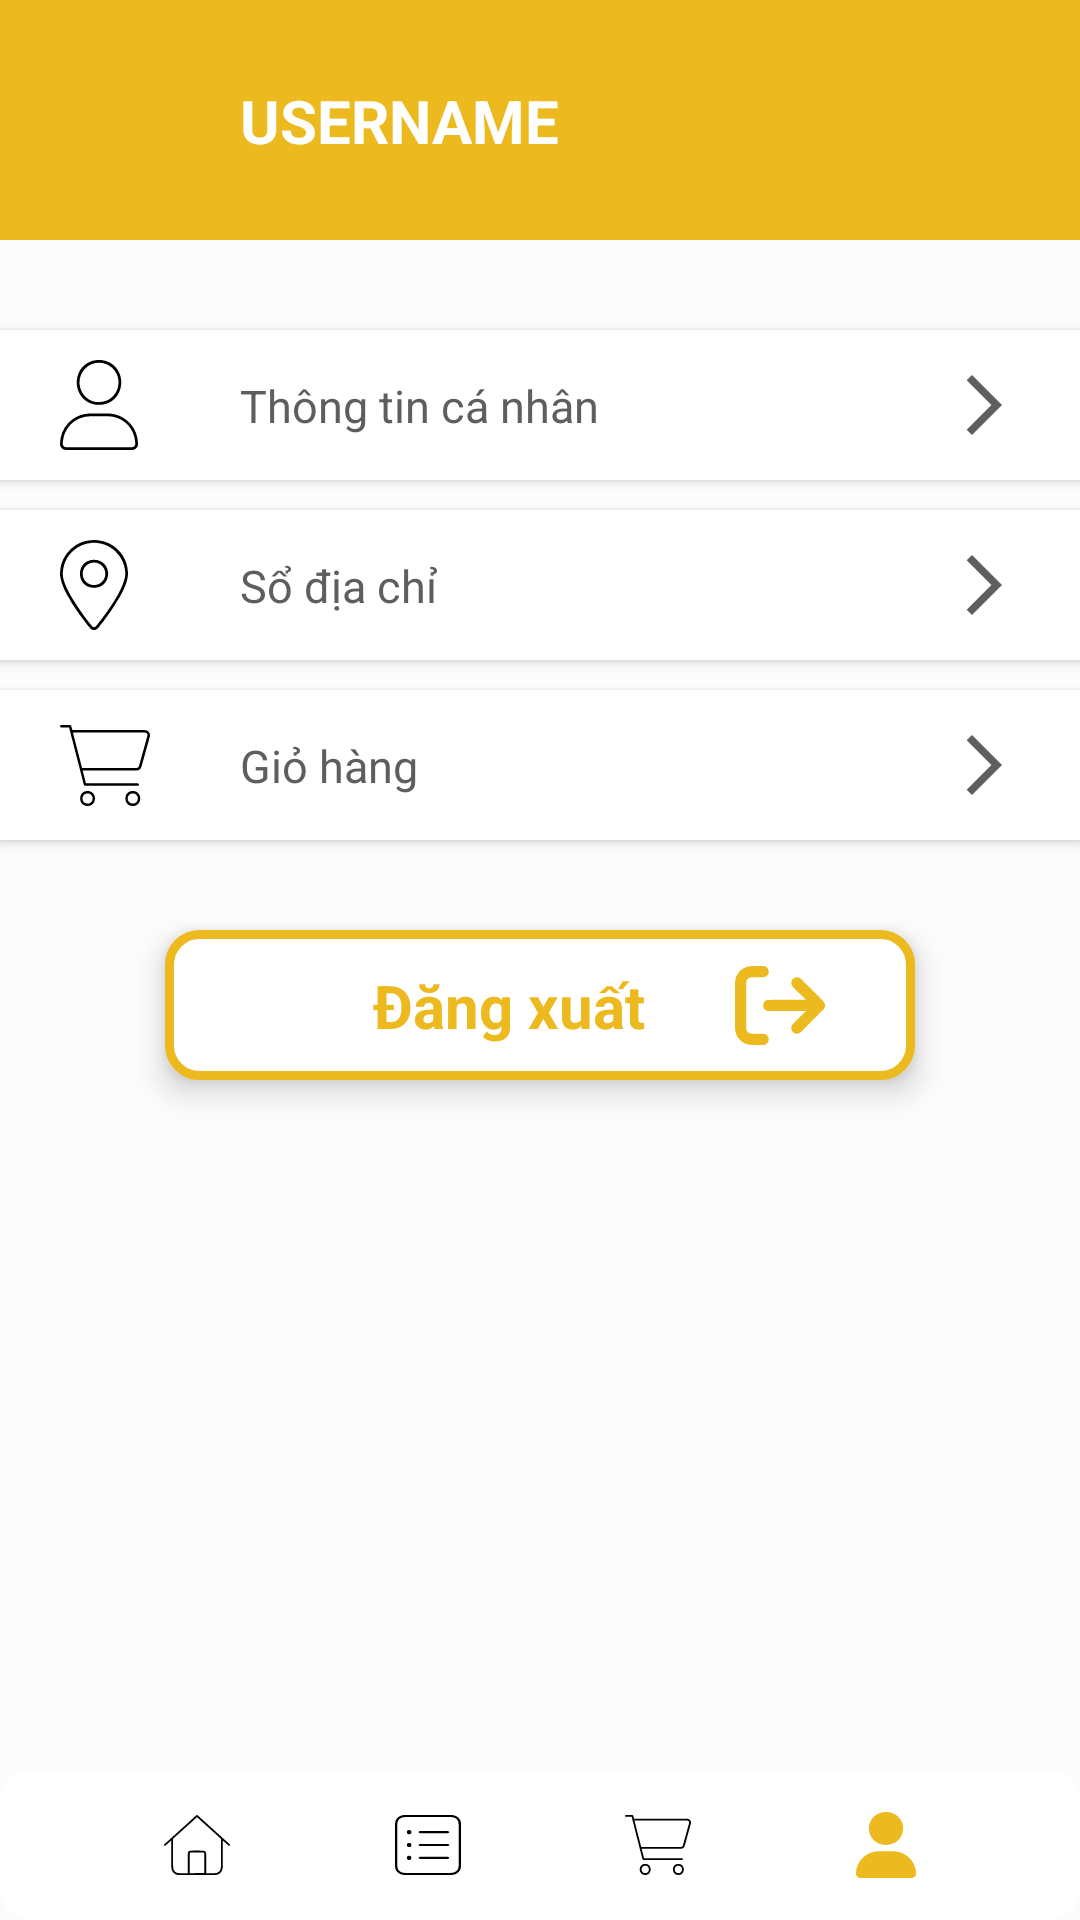

Locate icon controls on the screen. Image size 1080 x 1920, boxes as (x1, y1, x2, y2).
arrow forward: (967, 375, 1002, 435), (967, 555, 1002, 615), (967, 735, 1002, 795)
location: (60, 540, 128, 630)
user: (60, 360, 138, 450)
